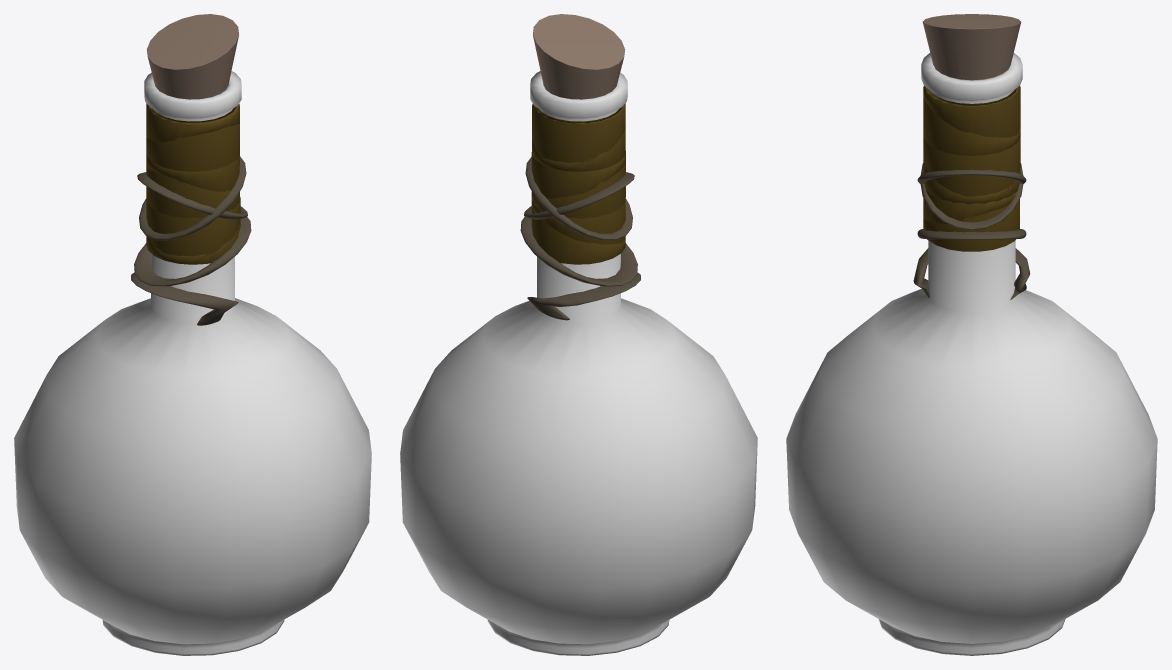
Rendered from Flask.fbx.
3 renders of one model, left to right at view 1: azimuth 30°, elevation 25°; view 2: azimuth 150°, elevation 25°; view 3: azimuth 270°, elevation 25°, orthographic. The views are drawn at different scales.
Visible parts, largest first — view 1: glas, stoff, kork, Schnur, schnur, schnur1, schnur2; view 2: glas, stoff, kork, Schnur, schnur, schnur1, schnur2; view 3: glas, stoff, kork, schnur2, schnur, Schnur, schnur1.
Boxes of the visible parts, <box> form: glas: <box>14,71,371,655</box>; stoff: <box>146,103,240,264</box>; kork: <box>147,14,239,99</box>; Schnur: <box>134,217,251,286</box>; schnur: <box>131,272,238,325</box>; schnur1: <box>139,156,246,240</box>; schnur2: <box>137,172,247,219</box>; glas: <box>400,71,757,655</box>; stoff: <box>531,103,625,264</box>; kork: <box>533,14,624,99</box>; Schnur: <box>520,217,637,286</box>; schnur: <box>527,272,640,320</box>; schnur1: <box>525,157,632,240</box>; schnur2: <box>524,172,634,219</box>; glas: <box>786,53,1157,655</box>; stoff: <box>923,86,1020,251</box>; kork: <box>922,14,1021,80</box>; schnur2: <box>920,163,1023,229</box>; schnur: <box>913,248,1030,299</box>; Schnur: <box>917,229,1026,239</box>; schnur1: <box>917,169,1026,183</box>.
Bounding box in the file's own units: 3.92 × 7.07 × 3.92.
